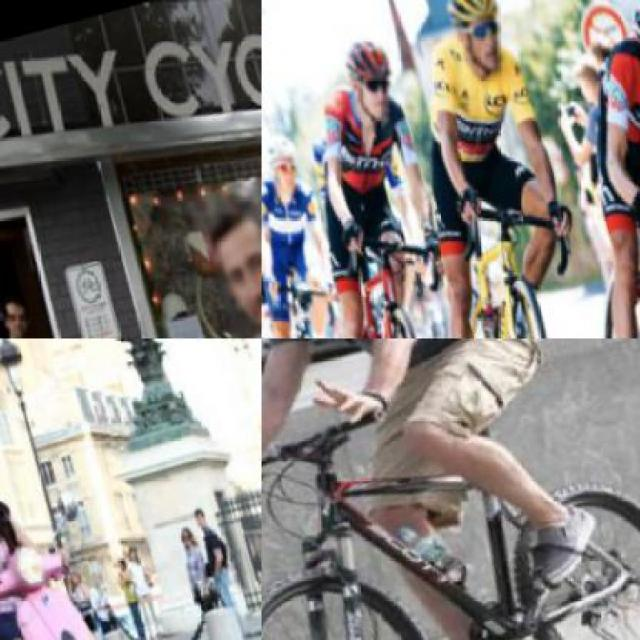With Helmet: (334, 20, 415, 138), (437, 0, 526, 78), (262, 120, 316, 200), (262, 170, 276, 238)
Without Helmet: (188, 169, 260, 337)
